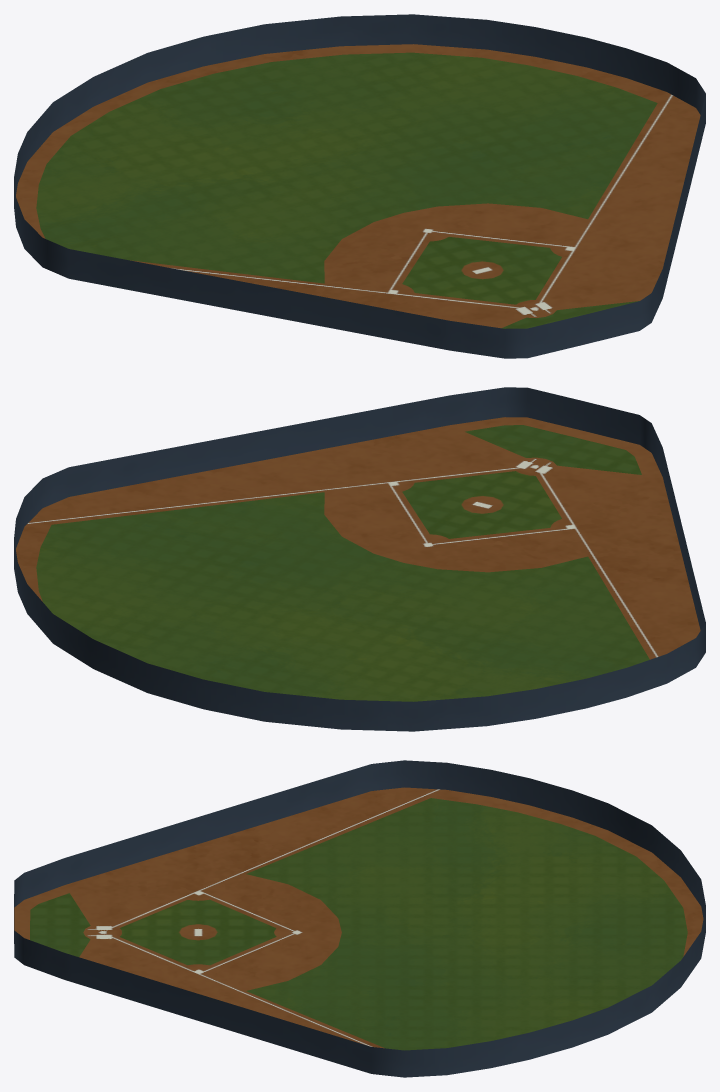
File: Baseball_Ground.fbx
3 renders of one model, top to bottom at view 1: azimuth 30°, elevation 25°; view 2: azimuth 150°, elevation 25°; view 3: azimuth 270°, elevation 25°, orthographic. The views are drawn at different scales.
Parts seen in each view (by area): view 1: Baseball_Ground; view 2: Baseball_Ground; view 3: Baseball_Ground.
Boxes of the visible parts, box(x1,y1,x2,y2) form: Baseball_Ground: box(14, 14, 705, 358); Baseball_Ground: box(14, 387, 705, 731); Baseball_Ground: box(14, 760, 705, 1077).
Bounding box in the file's own units: 102 × 4.45 × 103.
